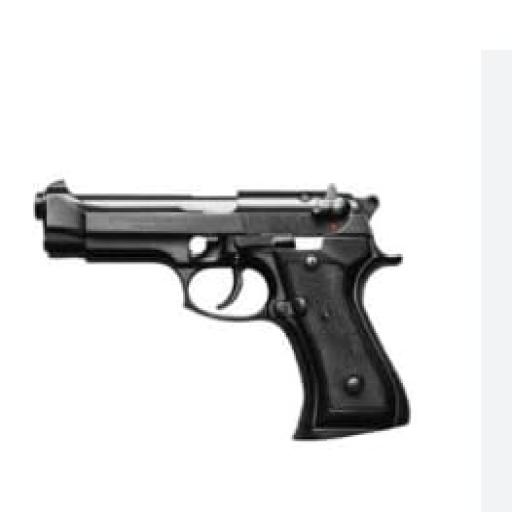Gun: (35, 181, 407, 437)
